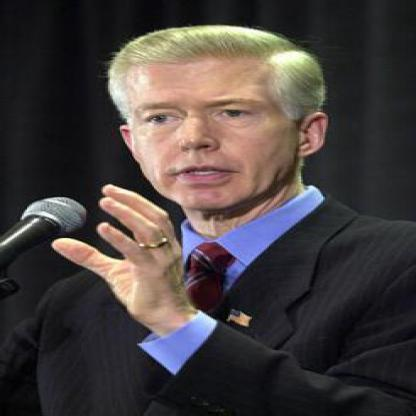face: (118, 34, 303, 212)
